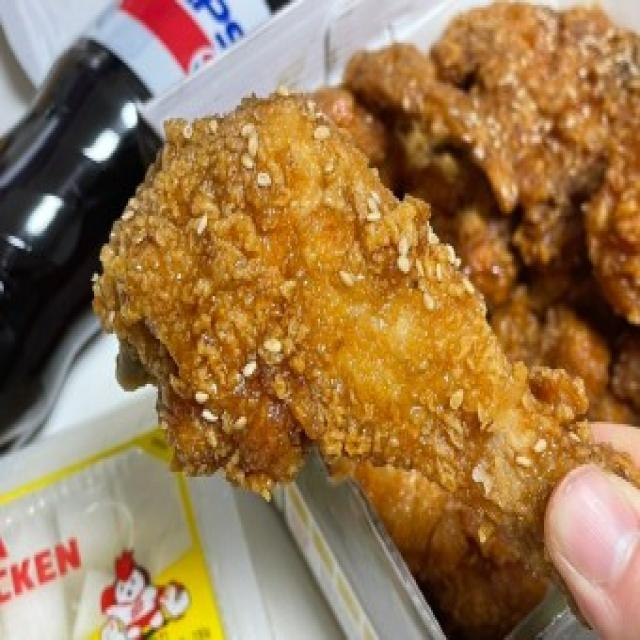Frango: (108, 48, 640, 611)
